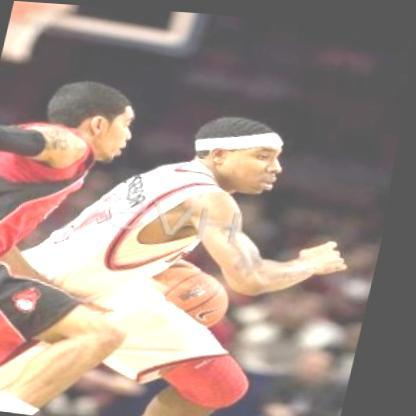basketball: (137, 254, 248, 333)
